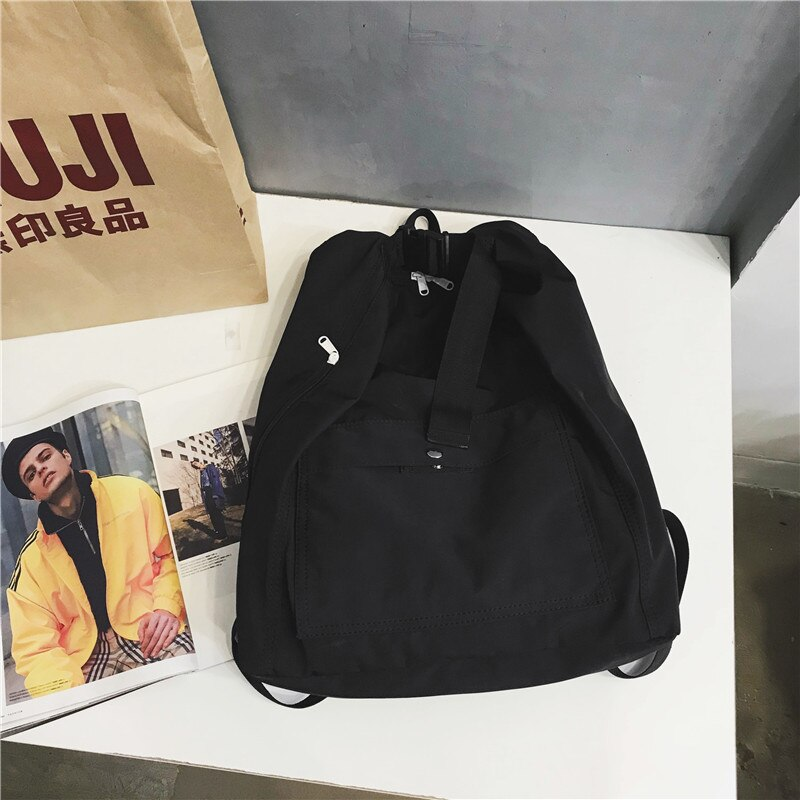Men's Backpacks: (229, 204, 689, 713)
